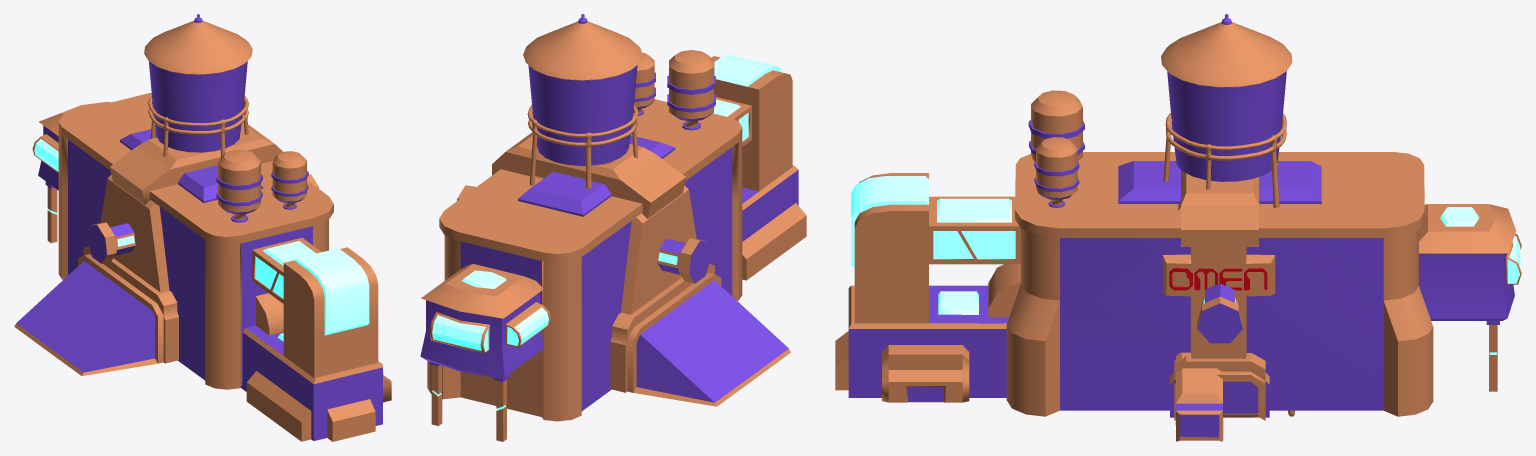
Rendered from Buildings.fbx.
The picture shows the model from 3 angles, left to right: view 1: azimuth 30°, elevation 25°; view 2: azimuth 150°, elevation 25°; view 3: azimuth 270°, elevation 25°; orthographic projection. The views are drawn at different scales.
Parts seen in each view (by area): view 1: OMen_MainHQ, WaterTower, Walkway; view 2: OMen_MainHQ, WaterTower, Walkway; view 3: OMen_MainHQ, WaterTower, Building_E, Walkway.
Boxes of the visible parts, x1,y1,x2,y2 form: OMen_MainHQ: (14, 93, 391, 441); WaterTower: (144, 14, 252, 156); Walkway: (87, 174, 318, 263); OMen_MainHQ: (420, 50, 806, 441); WaterTower: (523, 14, 642, 188); Walkway: (457, 185, 711, 283); OMen_MainHQ: (835, 90, 1521, 420); WaterTower: (1161, 14, 1294, 416); Building_E: (1175, 352, 1223, 441); Walkway: (1197, 283, 1242, 343).
Size of the model in its own units: 10049 by 11410 by 18597.
